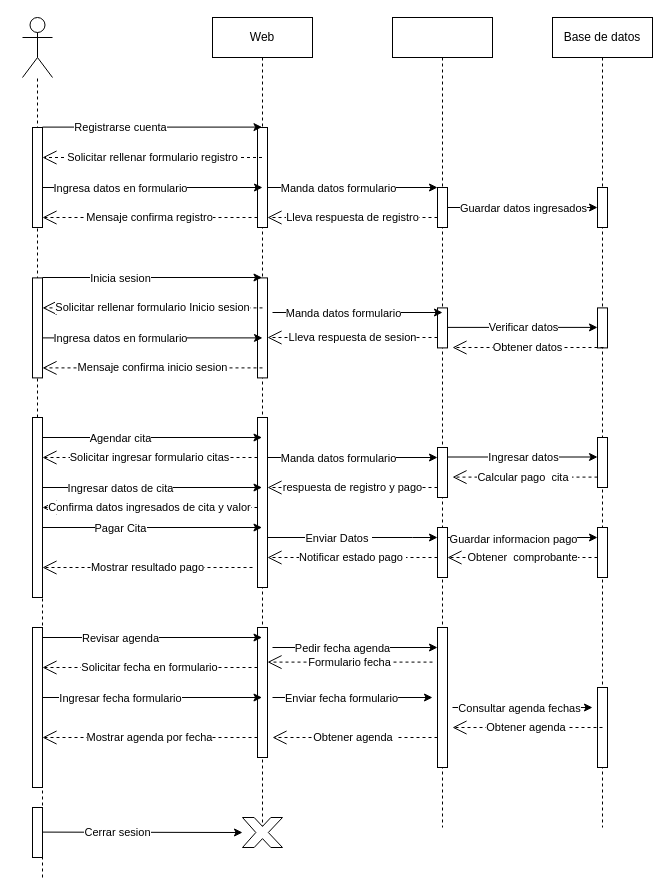
Some shapes in this 670 by 896 pixel diagram are drawn without their labels. Each missing label, with the centre of its shape:
"Servidor" belongs at (442,422).
"Usuario" belongs at (37,47).
